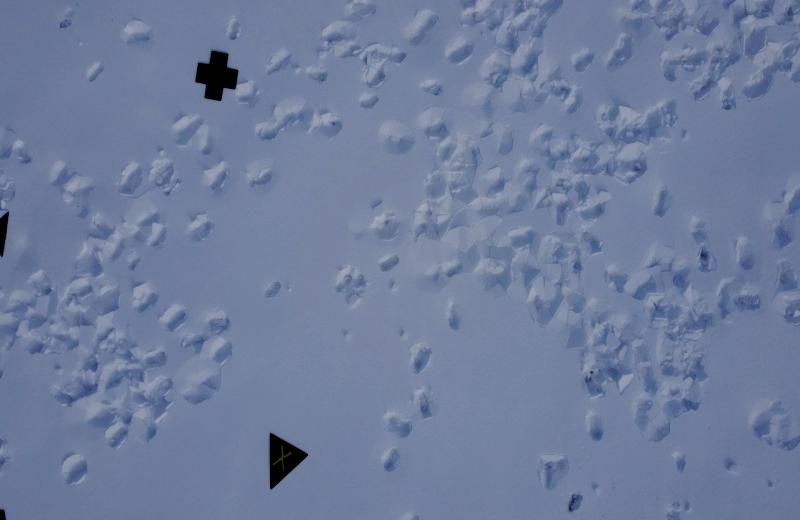Cross: (195, 49, 239, 104)
Triangle: (267, 428, 308, 490)
